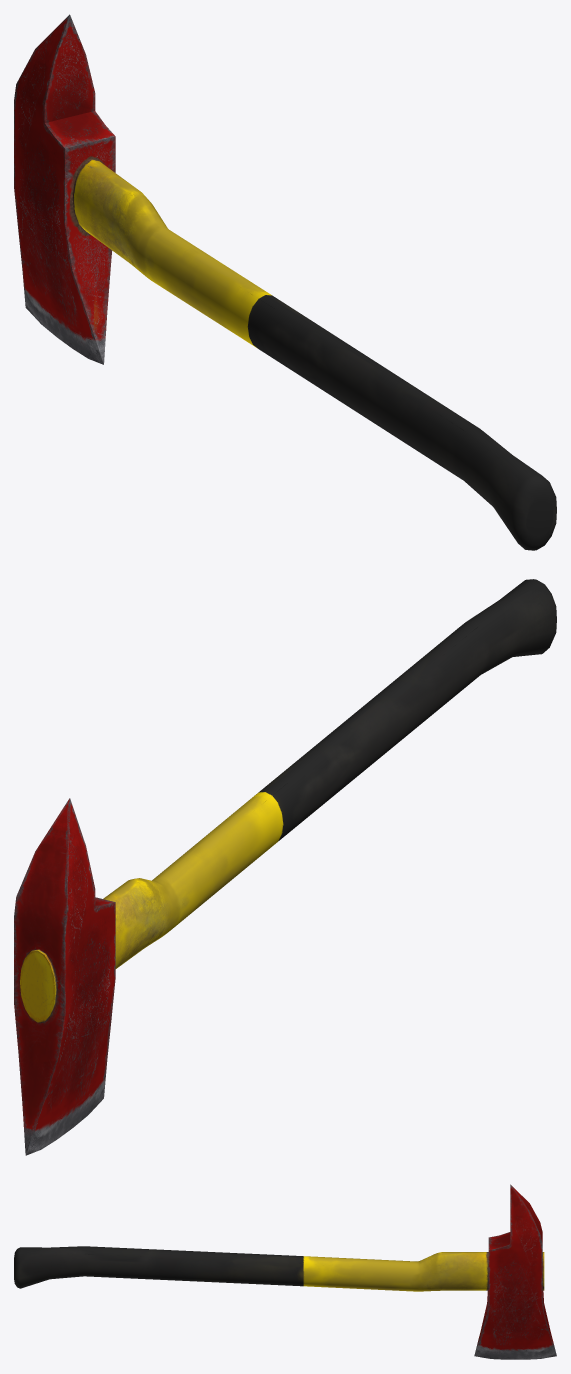
File: fireaxe.fbx
3 views of the same model, one above another, from view 1: azimuth 30°, elevation 25°; view 2: azimuth 150°, elevation 25°; view 3: azimuth 270°, elevation 25° (orthographic). The views are drawn at different scales.
Visible parts, largest first — view 1: Axe; view 2: Axe; view 3: Axe.
Boxes of the visible parts, x1,y1,x2,y2 form: Axe: (14, 14, 556, 550); Axe: (14, 579, 556, 1155); Axe: (14, 1184, 556, 1359).
Size of the model in its own units: 139 by 876 by 2455.
